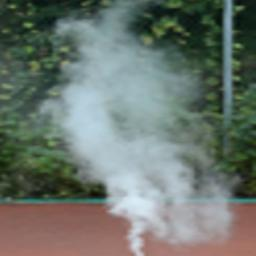smoke: (38, 0, 239, 255)
